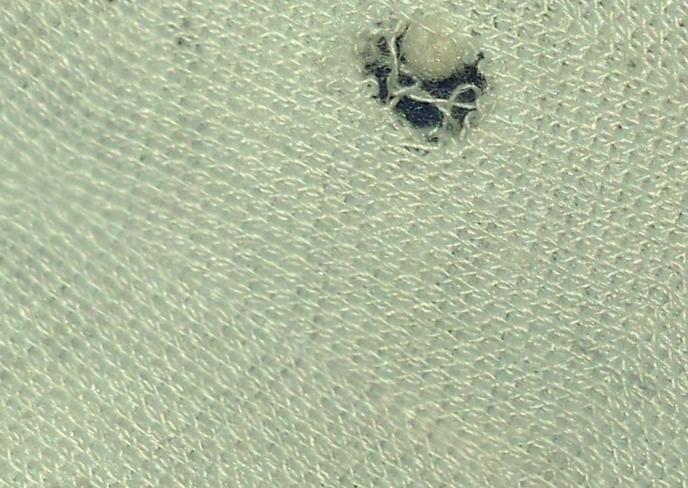hole: (380, 9, 498, 90)
